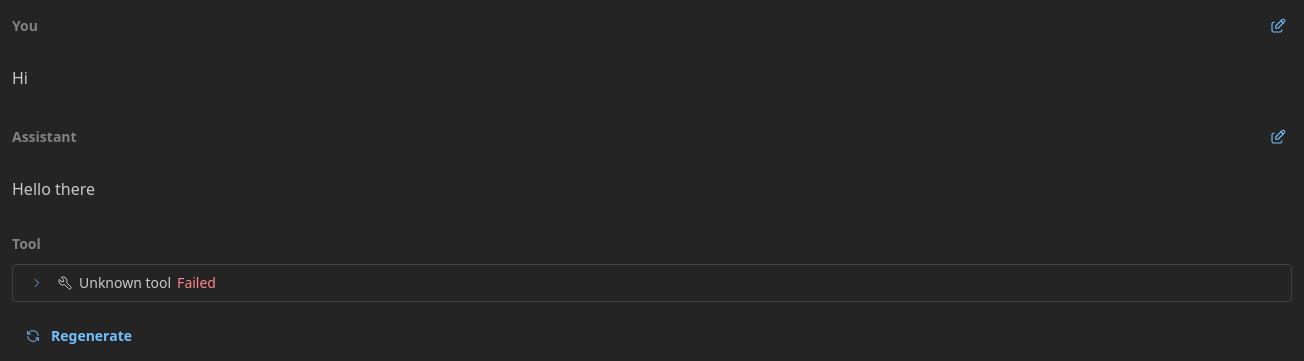
ZoneList — in-place edit (D10) › editing the assistant row PATCHes exactly /api/messages/<id> with {"text":"Hello, friend"}, then closes — DoD-3
Step 1. Click the button named "Edit message" in the row of "Assistant" → x=1278, y=137, box [1264, 123, 1292, 151]
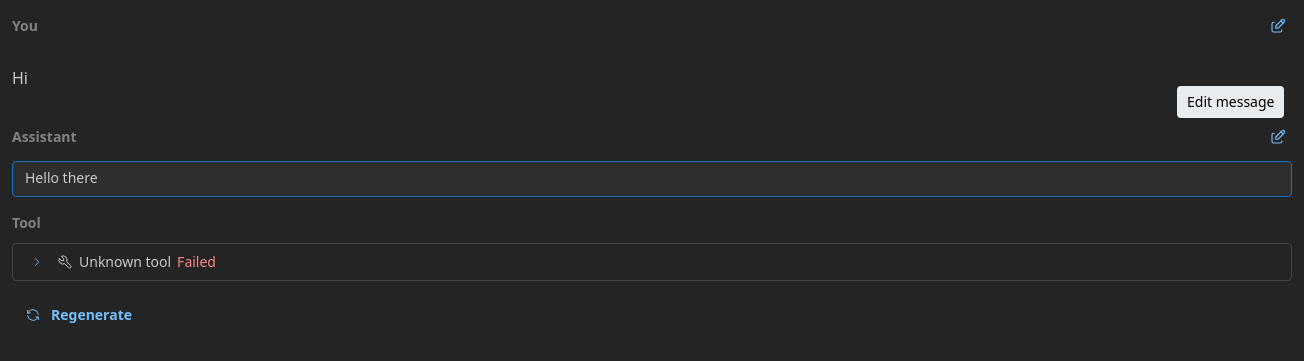
Now the text box named "Edit message text" holds "Hello there"
Step 2. Replace the text in the text box named "Edit message text" with "Hello, friend" → x=652, y=179, box [12, 161, 1292, 197]
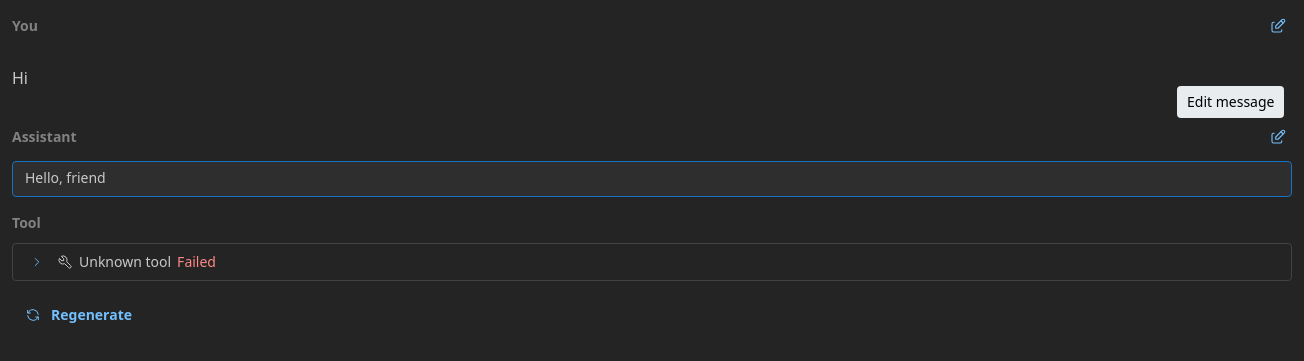
Step 3. Leave the text box named "Edit message text", box [12, 161, 1292, 197]
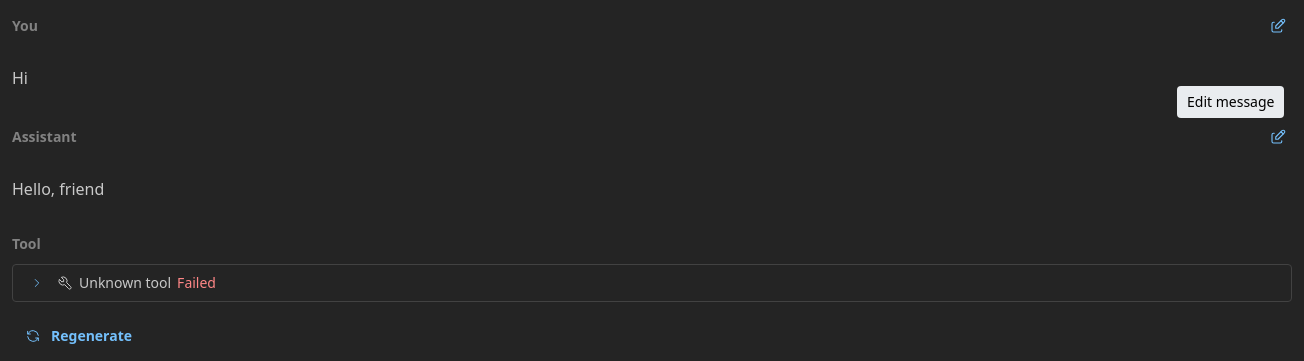
Expected: the text "Hello there" is not shown
Now the list item "Assistant Hello, friend" is shown, box [12, 123, 1292, 218]
